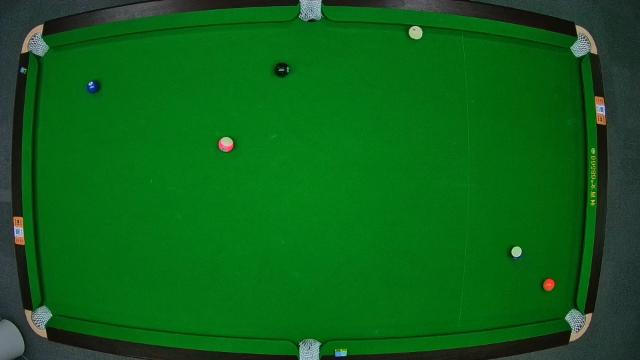bag1: (28, 34, 46, 54)
bag2: (302, 1, 322, 23)
bag3: (571, 37, 593, 57)
bag4: (30, 308, 51, 326)
bag5: (298, 340, 320, 360)
bag6: (568, 310, 586, 332)
ball0: (408, 25, 424, 41)
ball10: (510, 246, 524, 262)
ball12: (218, 136, 235, 154)
ball2: (86, 78, 100, 94)
ball5: (540, 277, 556, 293)
ball8: (275, 62, 291, 77)
